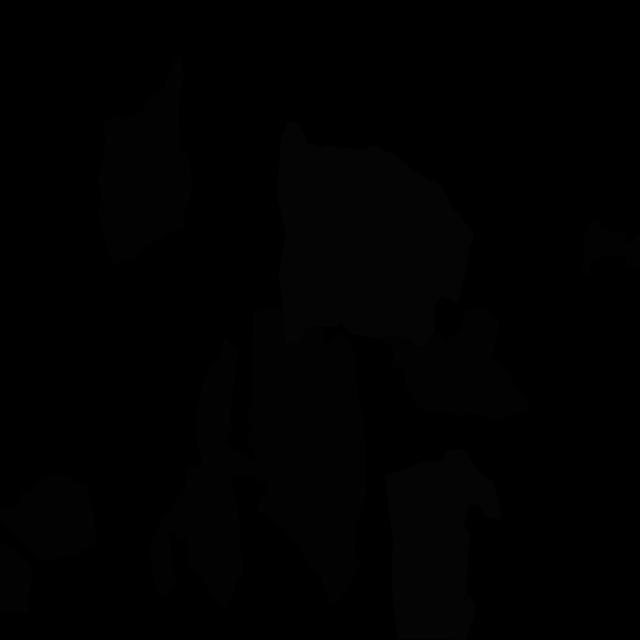cardboard: (246, 308, 366, 604), (150, 339, 259, 612), (96, 54, 192, 266), (380, 308, 530, 420), (0, 473, 96, 562), (582, 220, 640, 276), (0, 542, 33, 613)
soft_plastic: (276, 121, 474, 348), (385, 449, 502, 640)
